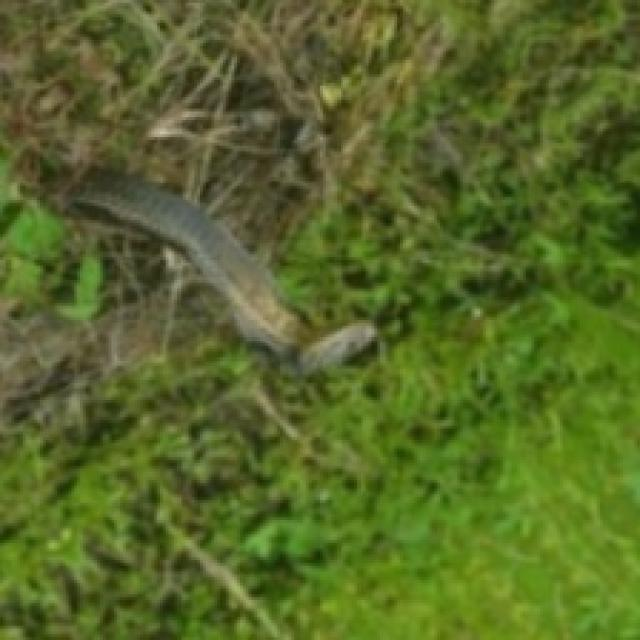king cobra: (71, 171, 374, 371)
